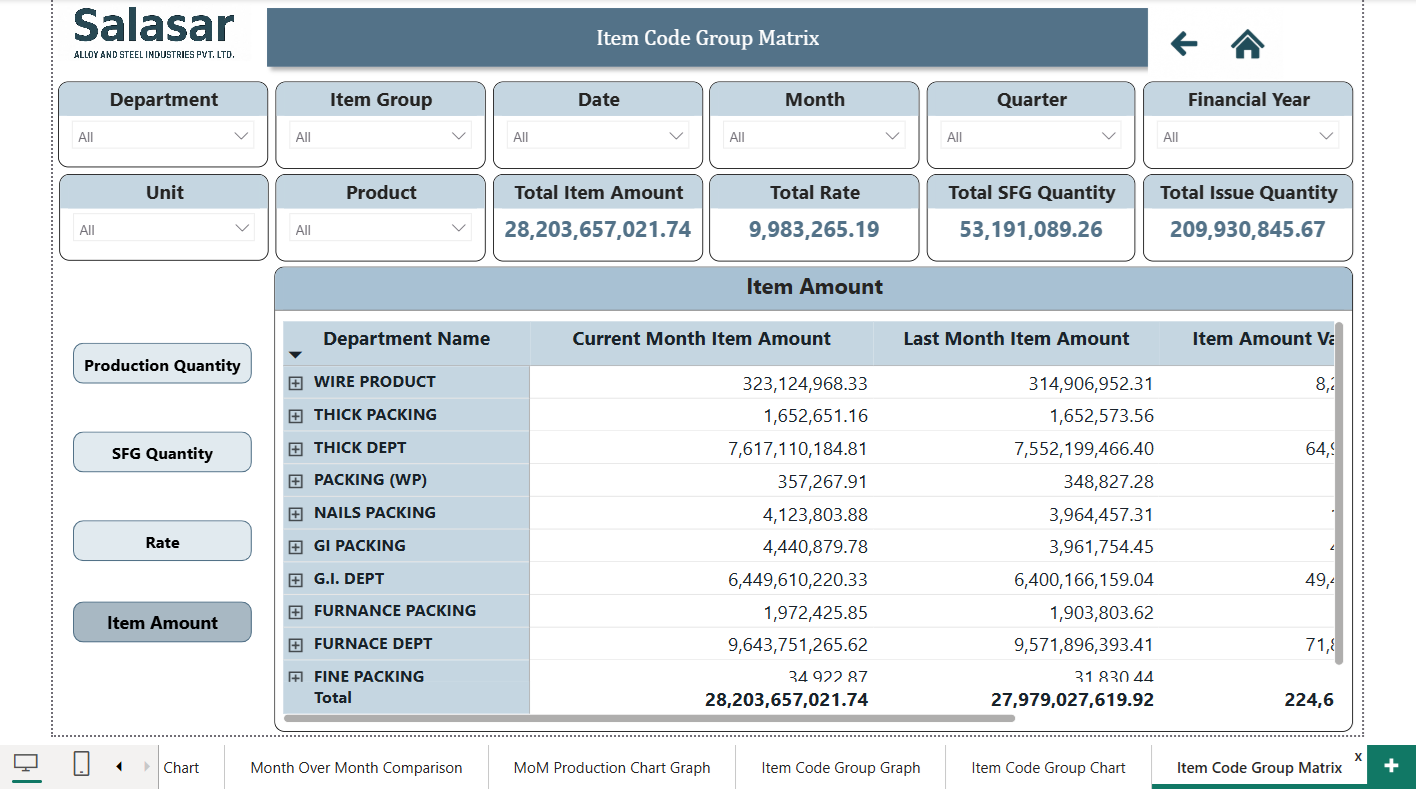

What the dashboard file says about the page in this screenshot:
{"tool":"powerbi","page":{"name":"Item Code Group Matrix","canvas":[1280,720],"ordinal":14},"visuals":[{"type":"image","box":[1128.7,3.8,80,80],"z":0,"group":"g1"},{"type":"image","box":[1066.2,3.8,80,80],"z":1000,"group":"g1"},{"type":"pivotTable","title":"Item Amount","fields":{"Rows":["Sheet 1.Department Name","Sheet 1.Product Name","Sheet 1.Product Specification","Sheet 1.Item_code_group"],"Values":["Sheet 1.Current Month Item Amount","Sheet 1.Last Month Item Amount","Sheet 1.Item Amount Variance","Sheet 1.Item Amount Variance %"]},"box":[216.4,261.7,1055.3,454.9],"z":3000},{"type":"slicer","title":"Department","fields":{"Values":["Sheet 1.Department Name"]},"box":[4.9,81,205.4,84.4],"z":4000},{"type":"actionButton","title":"Production Quantity","box":[20,336.3,175,40],"z":4000,"group":"g2"},{"type":"slicer","title":"Item Group","fields":{"Values":["Sheet 1.Item Group Name"]},"box":[217.4,81,205.4,85.6],"z":5000},{"type":"actionButton","box":[20,423.1,175,40],"z":5000,"group":"g5"},{"type":"slicer","title":"Date","fields":{"Values":["Sheet 1.Doc Date"]},"box":[429.9,81,205.4,85.6],"z":6000},{"type":"actionButton","box":[20,509.9,175,40],"z":6000,"group":"g4"},{"type":"slicer","title":"Month","fields":{"Values":["Calendar.Month"]},"box":[642.5,81,205.4,85.6],"z":7000},{"type":"slicer","title":"Quarter","fields":{"Values":["Calendar.Qtr"]},"box":[855,81,204.2,85.6],"z":8000},{"type":"slicer","title":"Financial Year","fields":{"Values":["Calendar.Fiscal Year"]},"box":[1066.3,81,205.4,85.6],"z":9000},{"type":"slicer","title":"Unit","fields":{"Values":["Sheet 1.unit"]},"box":[6.1,171,205,85],"z":10000},{"type":"card","title":"Total Item Amount ","fields":{"Values":["Sum(Sheet 1.ItemAmount)"]},"box":[430.4,171,205.4,85.6],"z":11000},{"type":"card","title":"Total Rate","fields":{"Values":["Sum(Sheet 1.Rate)"]},"box":[642,171,205.4,85.6],"z":12000},{"type":"card","title":"Total SFG Quantity","fields":{"Values":["Sum(Sheet 1.SFG Quantity)"]},"box":[854.8,171,204.2,85.6],"z":13000},{"type":"card","title":"Total Issue Quantity","fields":{"Values":["Sum(Sheet 1.Issue Quantity)"]},"box":[1066.3,171,205.4,85.6],"z":14000},{"type":"slicer","title":"Product","fields":{"Values":["Sheet 1.Product Name"]},"box":[217.7,171,205.4,85.6],"z":15000},{"type":"shape","box":[200,0,880,75],"z":16000},{"type":"image","box":[0,0,199.3,66],"z":17000},{"type":"group","id":"g1","title":"Group 1","box":[1066.2,3.8,142.5,80],"z":18000},{"type":"group","id":"g2","title":"Group 2","box":[20,336,175,40.3],"z":19000},{"type":"actionButton","title":"IA Hightlight","box":[20,589,175,40],"z":19007,"group":"g3"},{"type":"group","id":"g3","title":"Group 3","box":[20,589,175,40.4],"z":20000},{"type":"group","id":"g4","title":"Group 4","box":[20,509,175,40.9],"z":21000},{"type":"group","id":"g5","title":"Group 5","box":[20,423,175,40.1],"z":22000}]}

Visuals, with their boxes on the page's 1280x720 design canvas (x1, y1, x2, y2). These are canvas units, not pixel positions in the 1416x789 screenshot, which may show the page scaled, cropped or inside an application window:
image: BBox(1129, 4, 1209, 84)
image: BBox(1066, 4, 1146, 84)
"Item Amount" pivotTable: BBox(216, 262, 1272, 717)
"Department" slicer: BBox(5, 81, 210, 165)
"Production Quantity" actionButton: BBox(20, 336, 195, 376)
"Item Group" slicer: BBox(217, 81, 423, 167)
actionButton: BBox(20, 423, 195, 463)
"Date" slicer: BBox(430, 81, 635, 167)
actionButton: BBox(20, 510, 195, 550)
"Month" slicer: BBox(642, 81, 848, 167)
"Quarter" slicer: BBox(855, 81, 1059, 167)
"Financial Year" slicer: BBox(1066, 81, 1272, 167)
"Unit" slicer: BBox(6, 171, 211, 256)
"Total Item Amount " card: BBox(430, 171, 636, 257)
"Total Rate" card: BBox(642, 171, 847, 257)
"Total SFG Quantity" card: BBox(855, 171, 1059, 257)
"Total Issue Quantity" card: BBox(1066, 171, 1272, 257)
"Product" slicer: BBox(218, 171, 423, 257)
shape: BBox(200, 0, 1080, 75)
image: BBox(0, 0, 199, 66)
"Group 1" group: BBox(1066, 4, 1209, 84)
"Group 2" group: BBox(20, 336, 195, 376)
"IA Hightlight" actionButton: BBox(20, 589, 195, 629)
"Group 3" group: BBox(20, 589, 195, 629)
"Group 4" group: BBox(20, 509, 195, 550)
"Group 5" group: BBox(20, 423, 195, 463)
